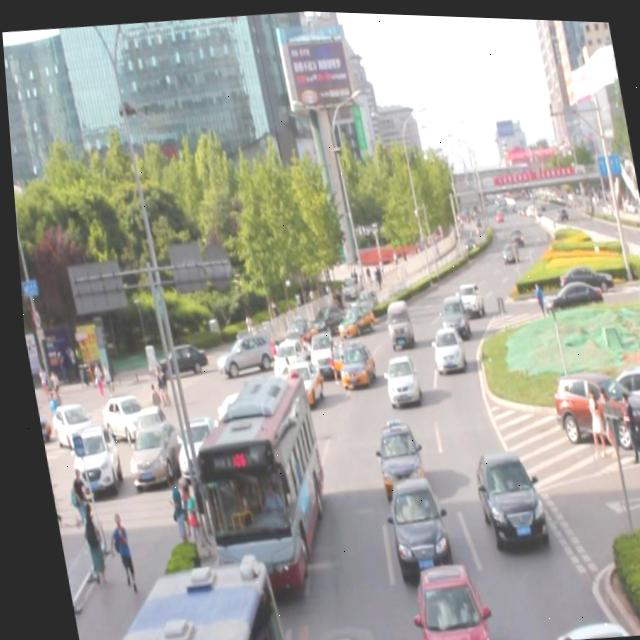car: (461, 439, 537, 542), (373, 470, 444, 574), (398, 553, 479, 640), (363, 414, 421, 497), (271, 349, 321, 401), (234, 366, 279, 423), (539, 611, 626, 639), (326, 326, 371, 380), (375, 349, 414, 404), (262, 332, 304, 383), (297, 317, 336, 369), (421, 319, 461, 369), (328, 287, 373, 330), (429, 289, 464, 337), (446, 276, 479, 313)
truck: (376, 293, 410, 345)
van: (178, 364, 328, 581), (65, 551, 269, 640)
